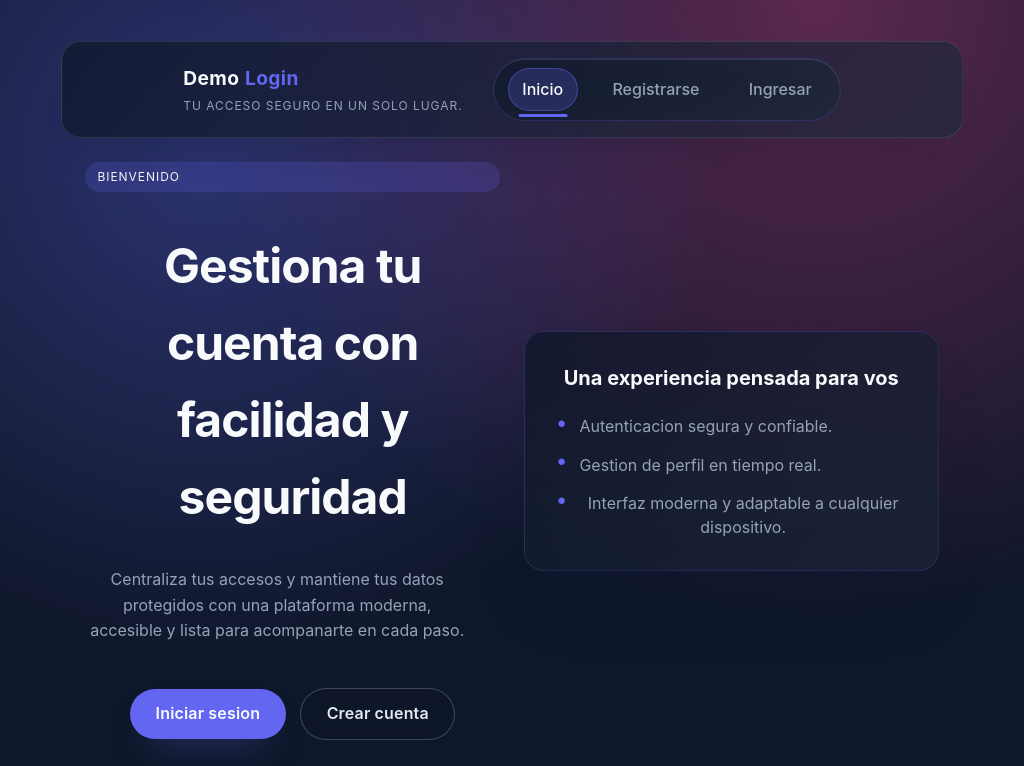
Scenario: Home hacia Login › permite navegar al login y valida las reglas del formulario
Check: the heading "Gestiona tu cuenta con facilidad y seguridad" is shown, box [164, 236, 421, 526]
Click the link "Iniciar sesion" at x=208, y=714, box [130, 689, 286, 739]
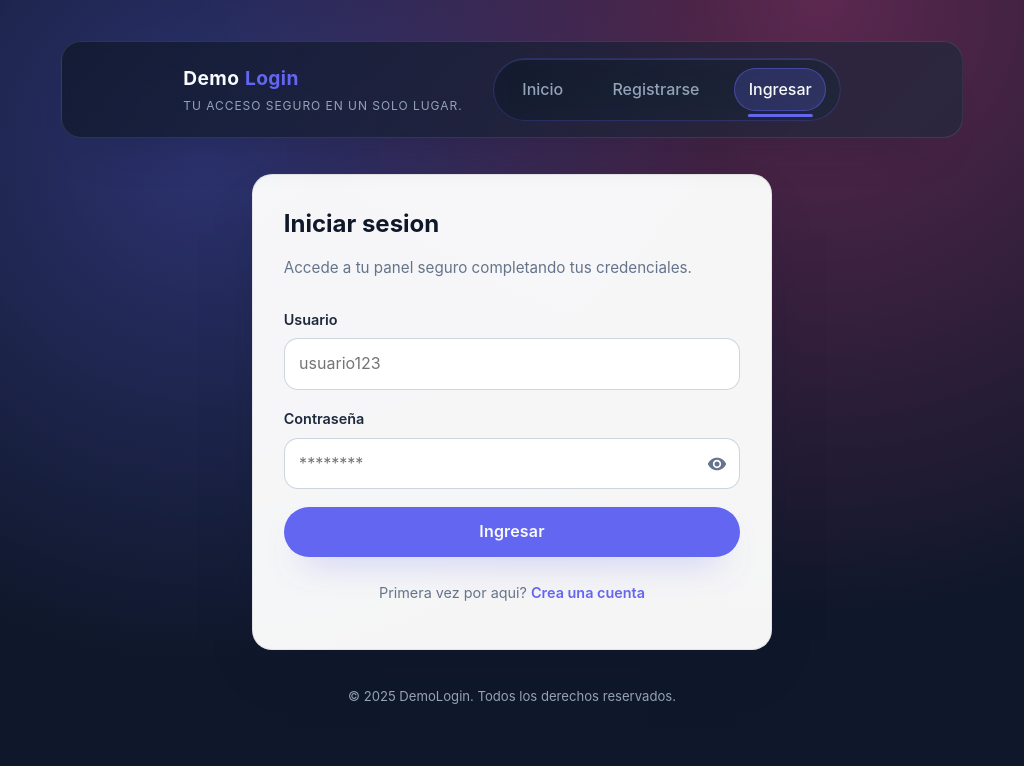
Check: the heading "Iniciar sesion" is shown, box [284, 209, 439, 238]
Type "abc1" into the field with id "username" at x=513, y=364, box [284, 338, 741, 390]
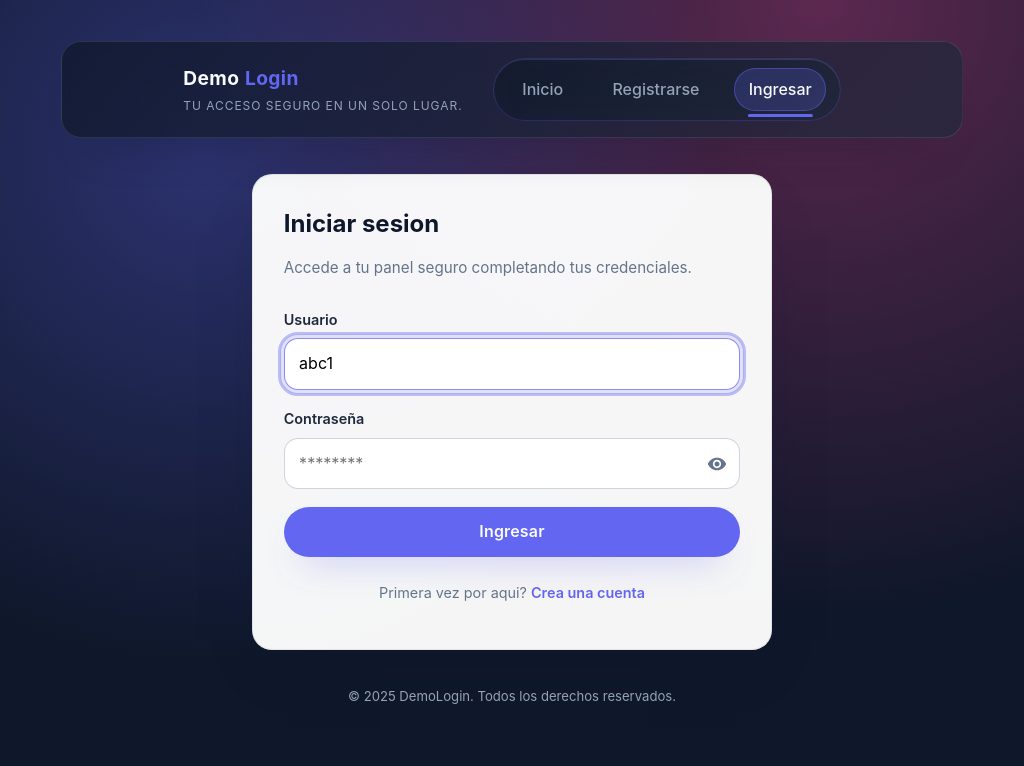
Type "abc" into the password field labelled "Contraseña" at x=513, y=464, box [284, 438, 741, 490]
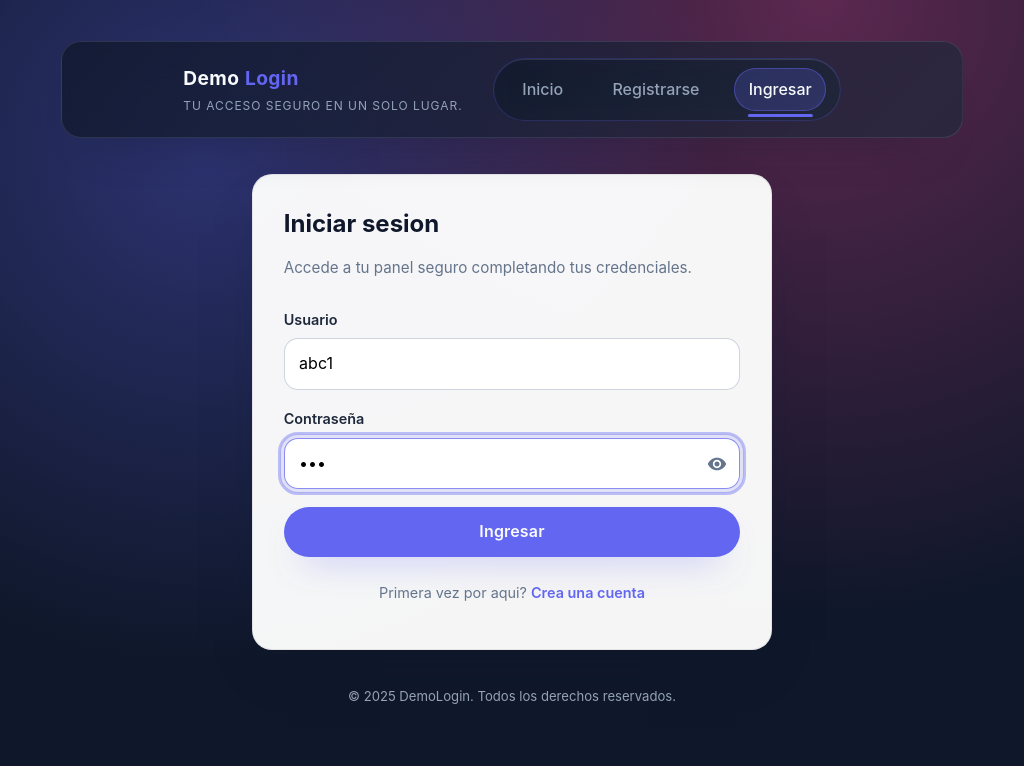
Click the button "Ingresar" at x=513, y=532, box [284, 507, 741, 557]
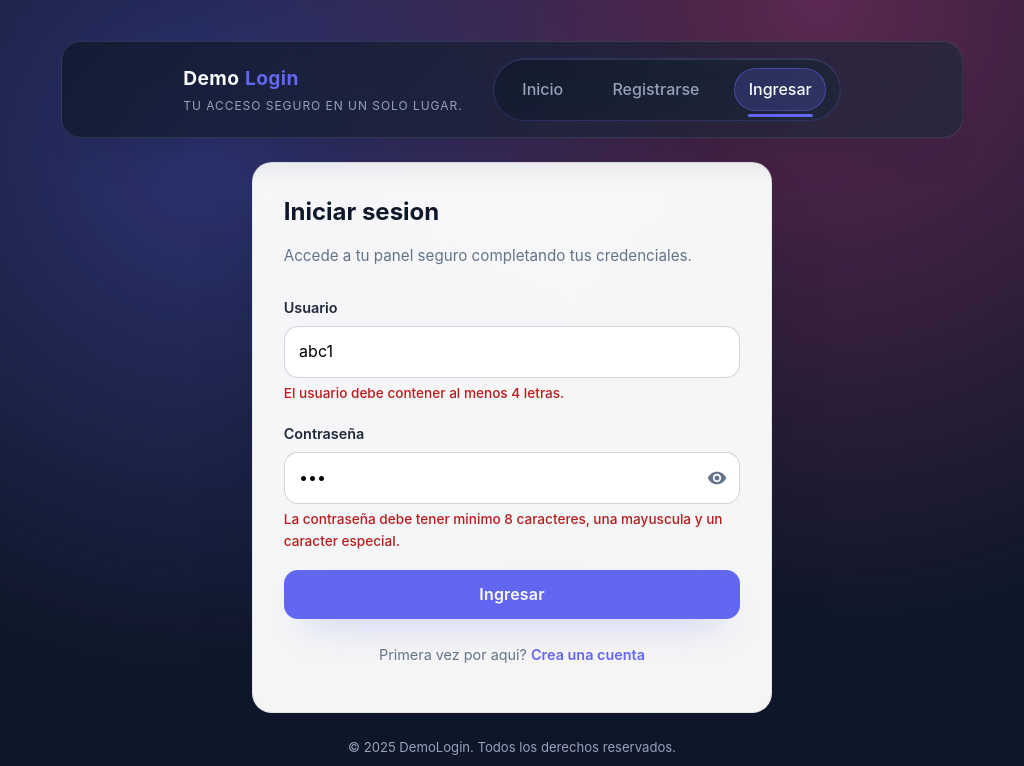
Check: the text "El usuario debe contener al menos 4 letras" is shown, box [284, 385, 565, 401]
Check: the text "La contrase" is shown, box [284, 511, 723, 549]
